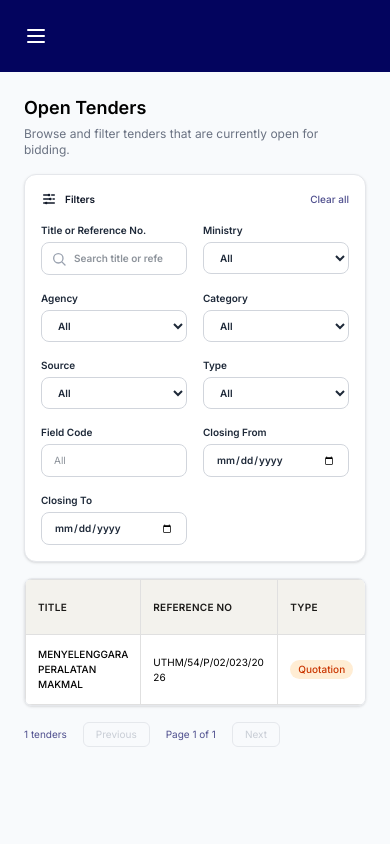
App › shows a hamburger button; clicking it opens the mobile nav backdrop, clicking the backdrop closes it
The width and height of the screenshot is (390, 844).
Expected: the text "MENYELENGGARA PERALATAN MAKMAL" is shown, 26,634 -> 141,704
Click the button named "toggle navigation menu" at (36, 36), box 24,24 -> 48,48
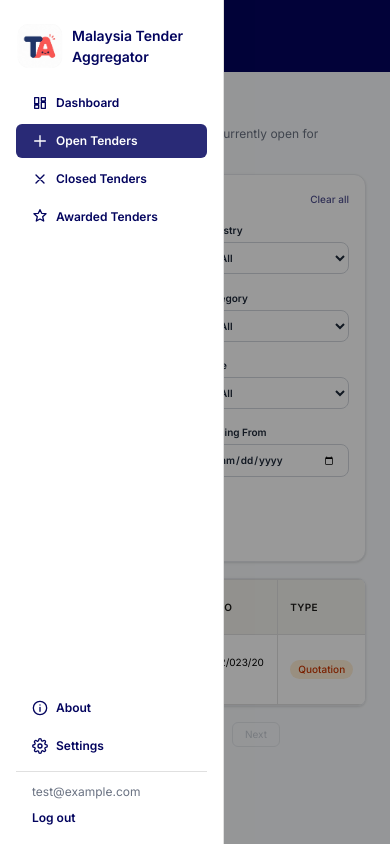
Now the element with test id "nav-backdrop" is shown
Click the element with test id "nav-backdrop" at (367, 422), box 0,0 -> 389,843
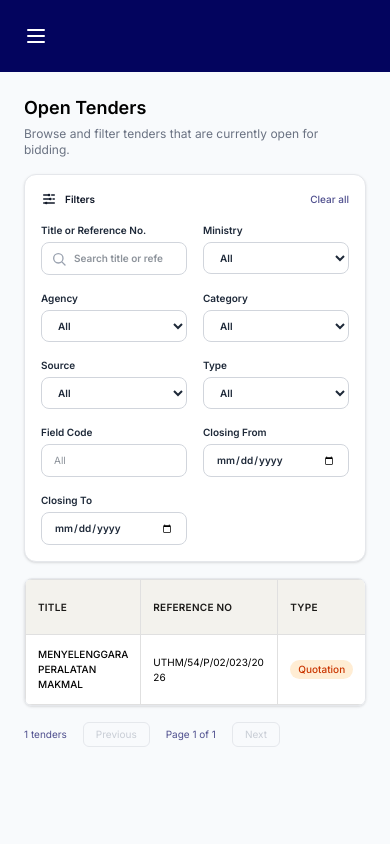
Now the element with test id "nav-backdrop" is gone
